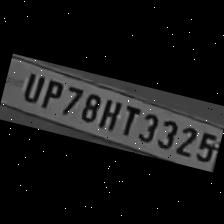2: (172, 118, 198, 156)
3: (133, 105, 161, 143), (153, 111, 180, 150)
5: (191, 125, 221, 164)
7: (56, 79, 82, 117)
8: (74, 86, 104, 124)
H: (95, 92, 123, 131)
P: (36, 74, 62, 110)
T: (116, 98, 142, 136)
U: (15, 66, 45, 104)
